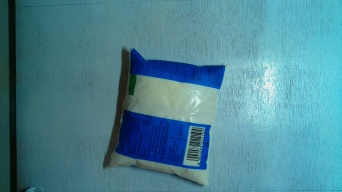m: (106, 41, 221, 182)
